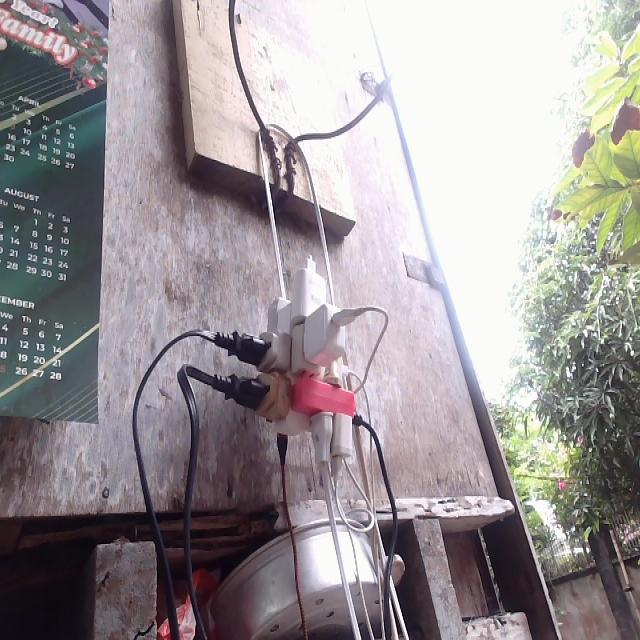-: (217, 267, 373, 464)
